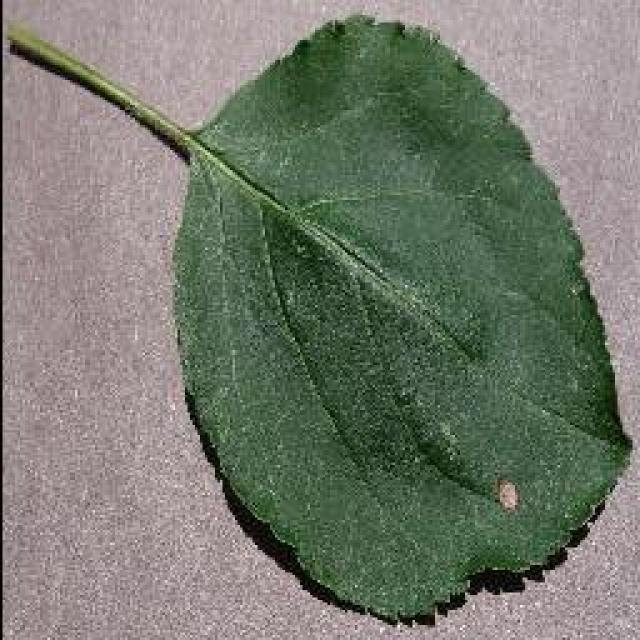Apple___Black_rot: (165, 11, 638, 625)
